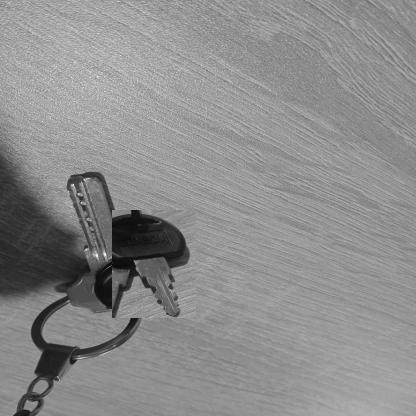key: (62, 171, 135, 315), (112, 210, 196, 318)
